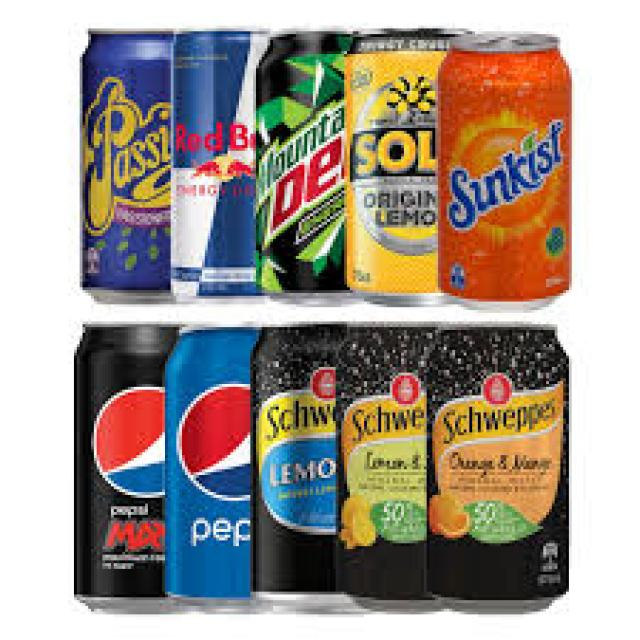Cans: (421, 327, 583, 606), (429, 26, 586, 302)
